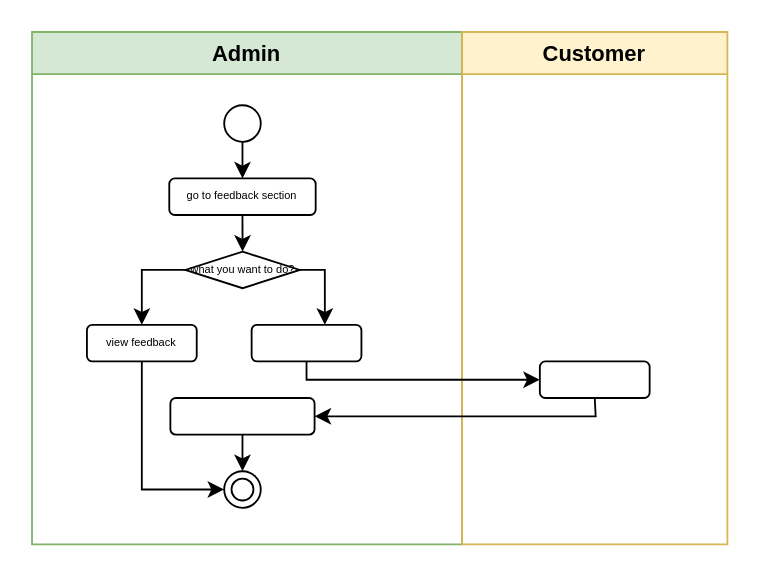
This 759x576 diagram has some shape labels left out. The shapes that lost their labels are listed below. From the top down, each one's centre as x and y in pixels, then its label:
At point (305, 342): "response on feedback".
At point (594, 379): "Show response".
At point (242, 415): "show sucess message".
